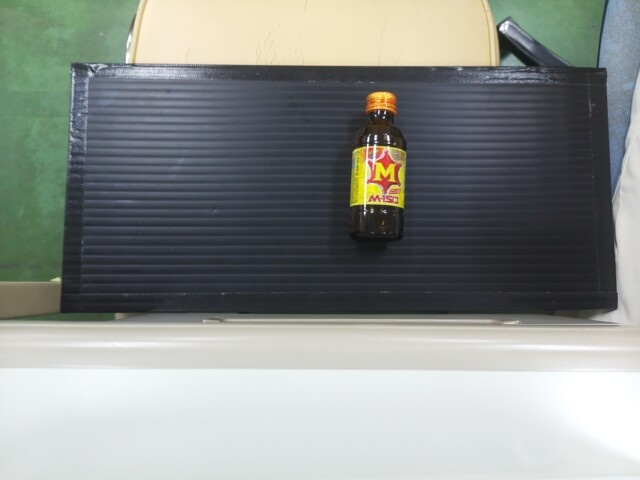glass_bottle: (352, 90, 406, 239)
